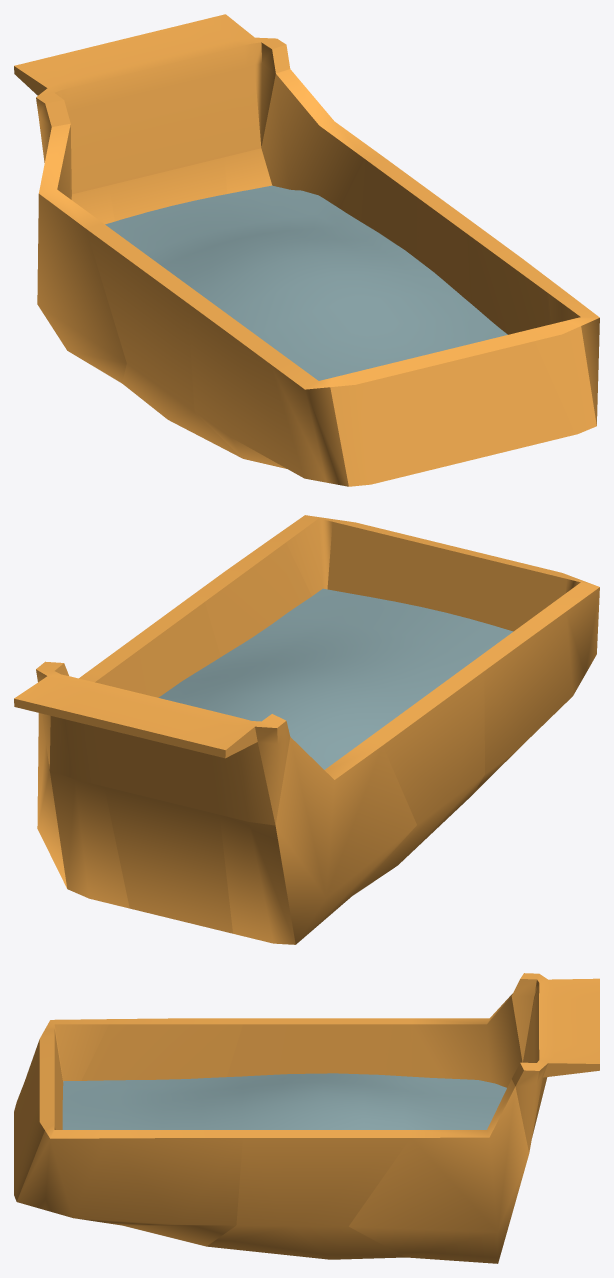
The model's file is Skip.fbx.
3 renders of one model, top to bottom at view 1: azimuth 30°, elevation 25°; view 2: azimuth 150°, elevation 25°; view 3: azimuth 270°, elevation 25°, orthographic. The views are drawn at different scales.
Parts seen in each view (by area): view 1: Dump_Box, Waste; view 2: Dump_Box, Waste; view 3: Dump_Box, Waste.
Part boxes in pixels (left/top/right/bottom): Dump_Box: left=14, top=14, right=599, bottom=486; Waste: left=105, top=185, right=507, bottom=380; Dump_Box: left=14, top=515, right=599, bottom=944; Waste: left=158, top=588, right=513, bottom=769; Dump_Box: left=14, top=973, right=599, bottom=1263; Waste: left=62, top=1073, right=506, bottom=1129.
Bounding box in the file's own units: 9.48 × 7.41 × 19.63.
